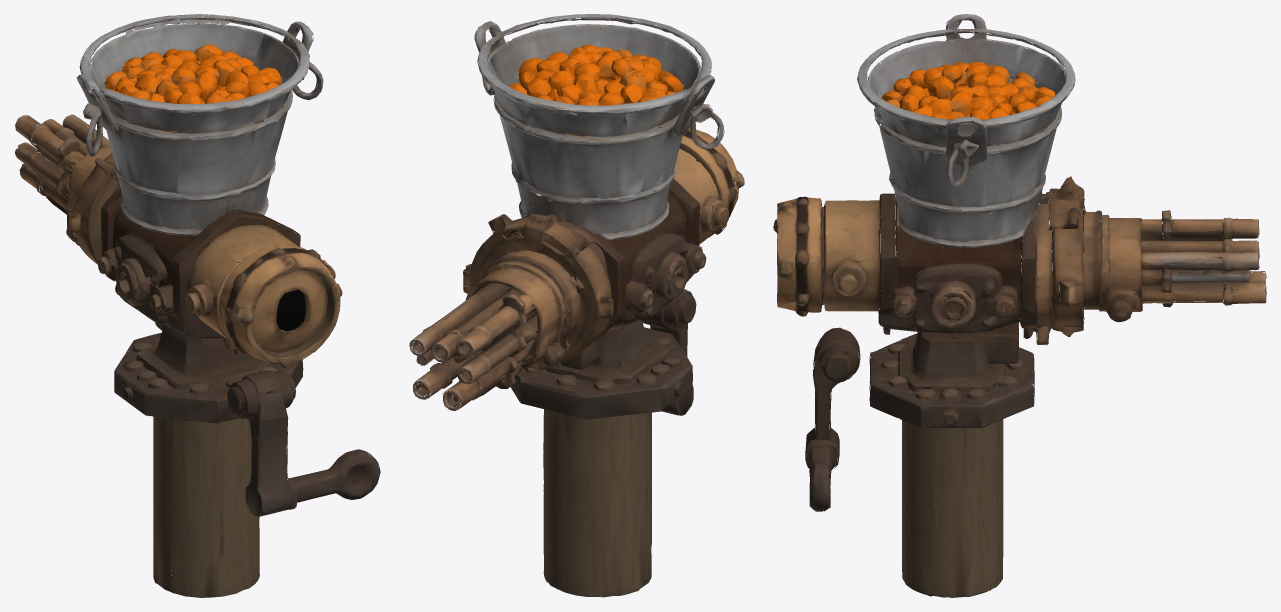
The model's file is corn_hopper.glb.
3 views of the same model, side by side, from view 1: azimuth 30°, elevation 25°; view 2: azimuth 150°, elevation 25°; view 3: azimuth 270°, elevation 25° (orthographic). The views are drawn at different scales.
Parts seen in each view (by area): view 1: gun, base, spin0; view 2: gun, base, spin0; view 3: gun, base, spin0.
Boxes of the visible parts, box(x1,y1,x2,y2) form: gun: box(67, 14, 342, 422); base: box(114, 347, 380, 597); spin0: box(15, 114, 111, 245); gun: box(463, 14, 744, 398); base: box(510, 310, 693, 597); spin0: box(409, 261, 565, 410); gun: box(773, 14, 1170, 413); base: box(805, 351, 1034, 597); spin0: box(1100, 210, 1266, 322).
Bounding box in the file's own units: 0.9519 × 2 × 1.76.
1 material, 1 textured.
